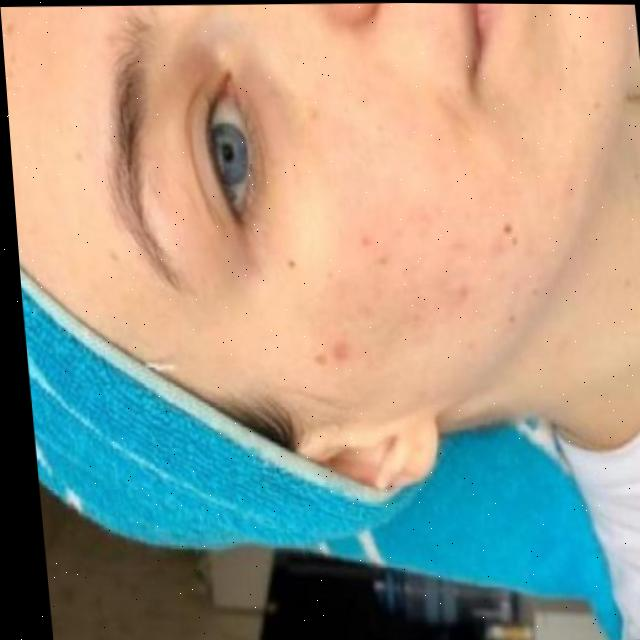Acne: (256, 170, 519, 428)
